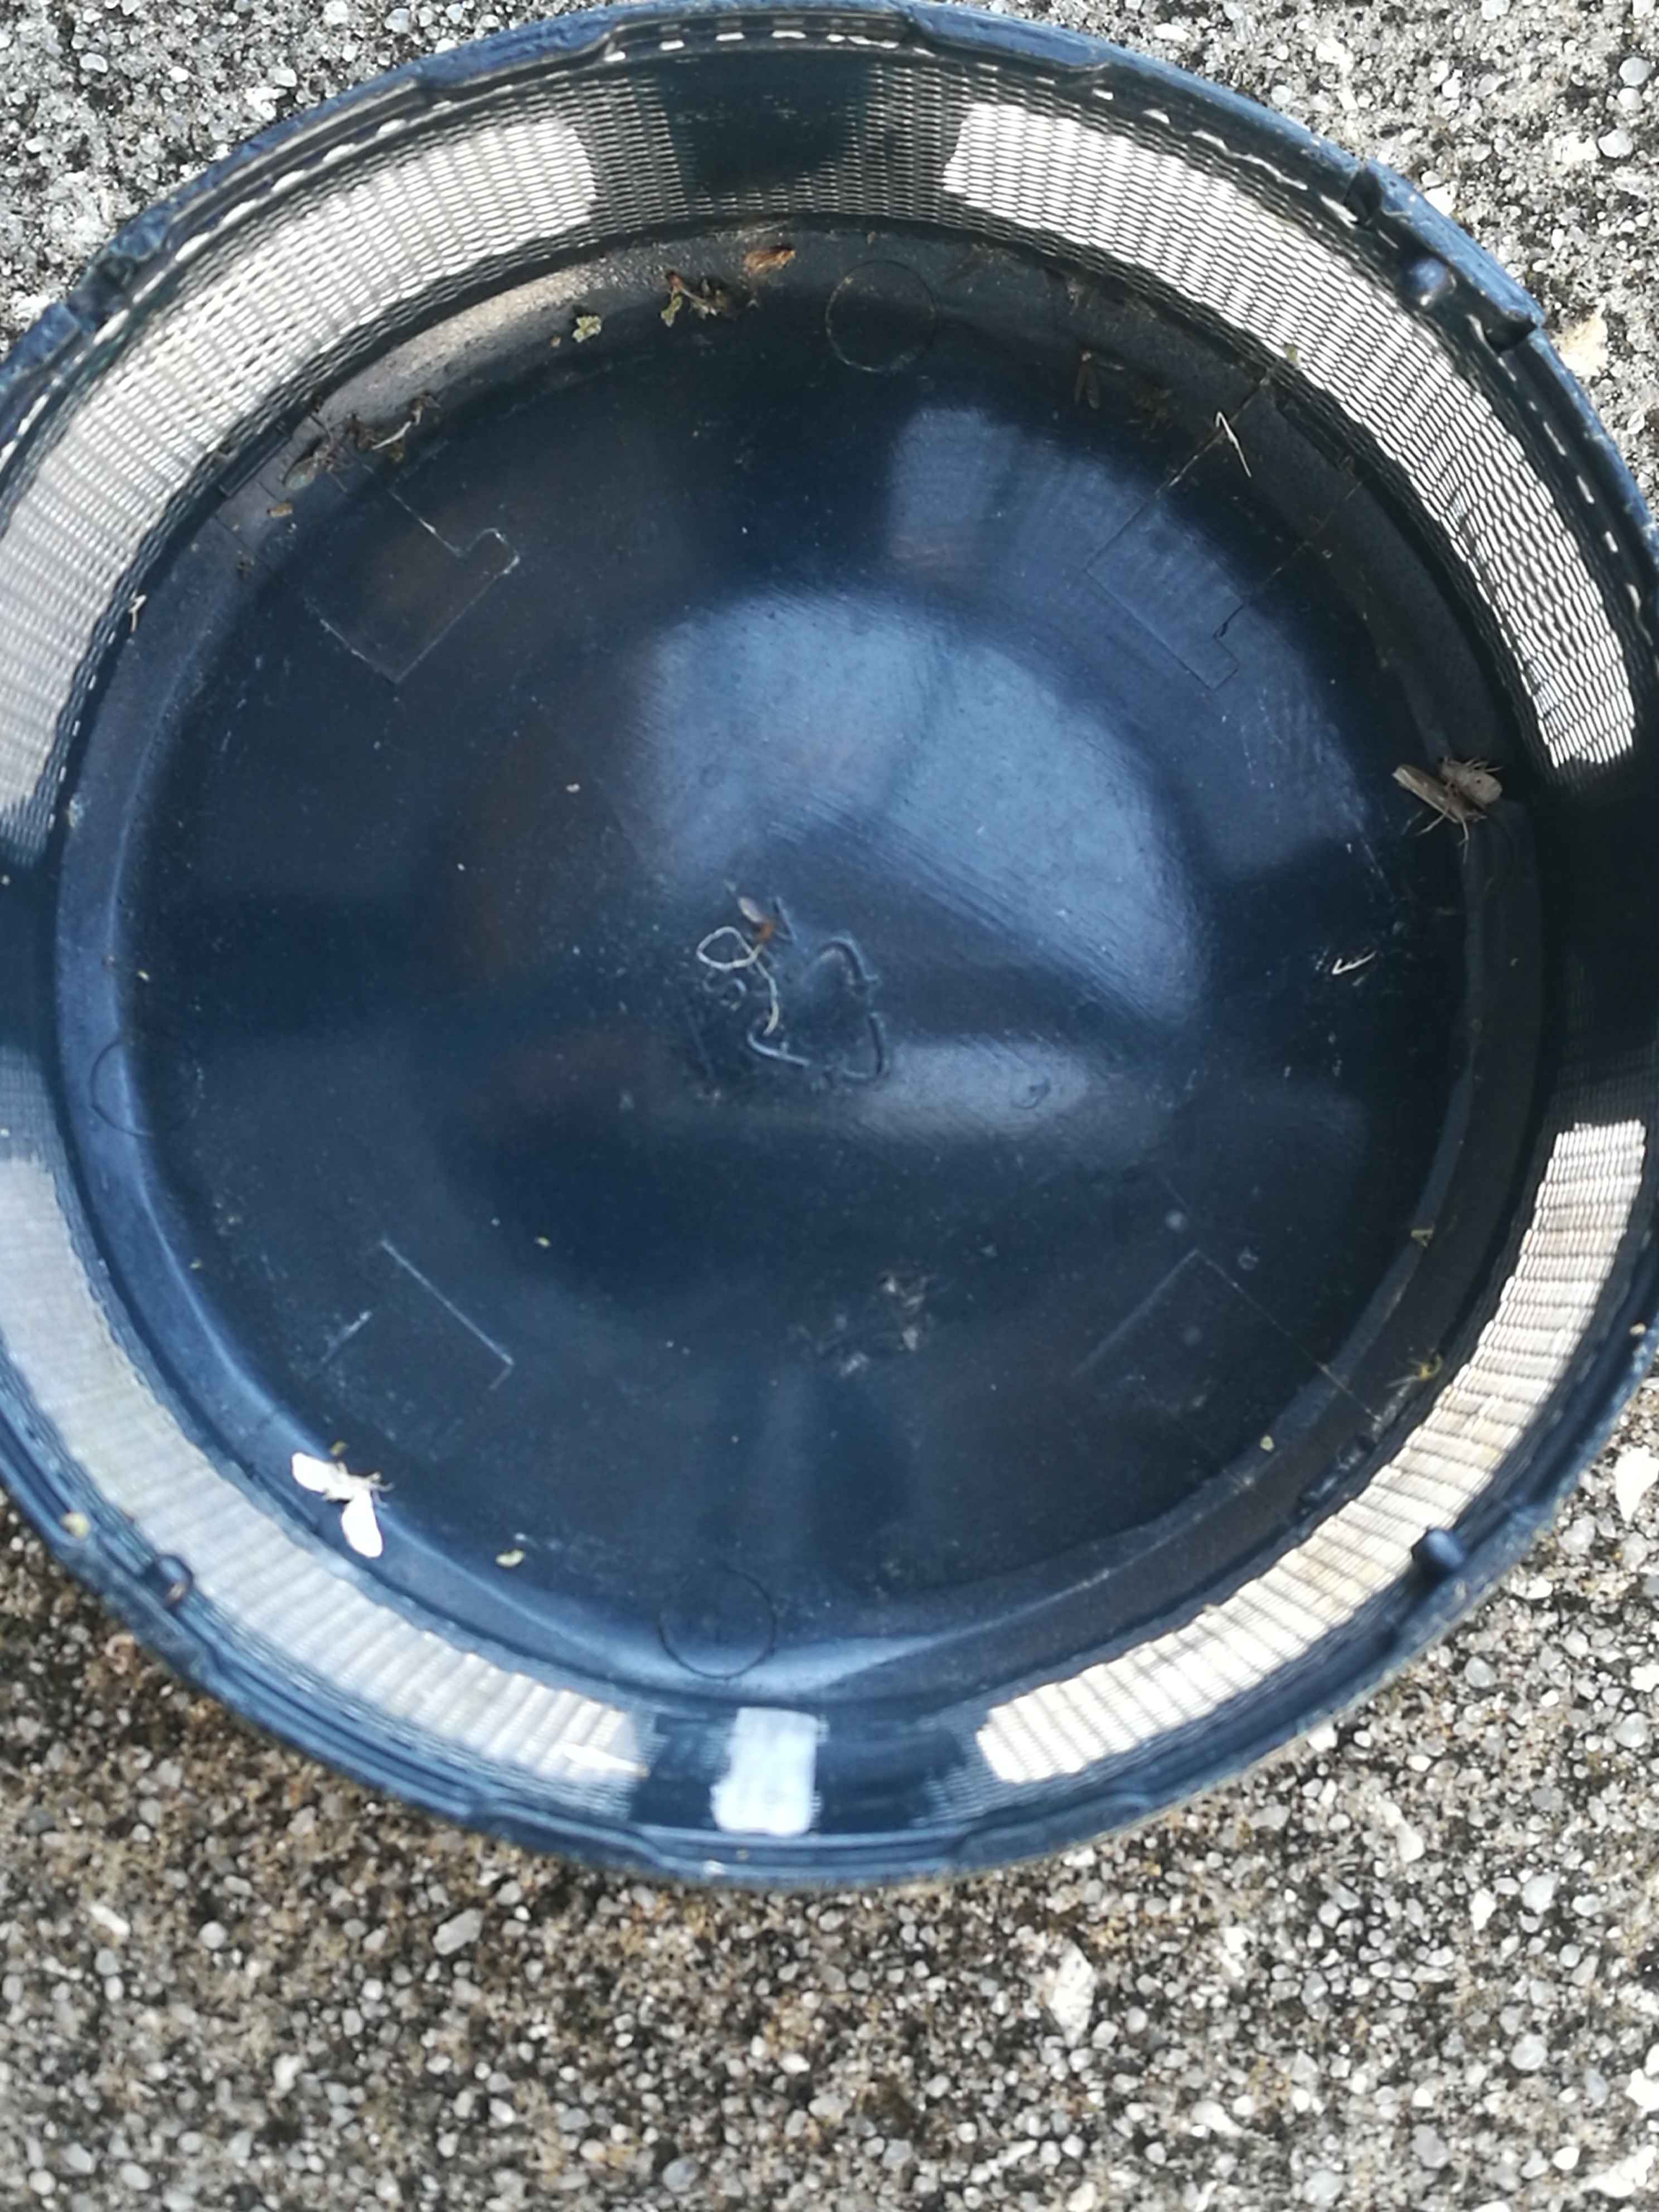mosquito: (1392, 765, 1474, 822)
moth: (291, 1451, 383, 1559), (1438, 758, 1502, 805)
